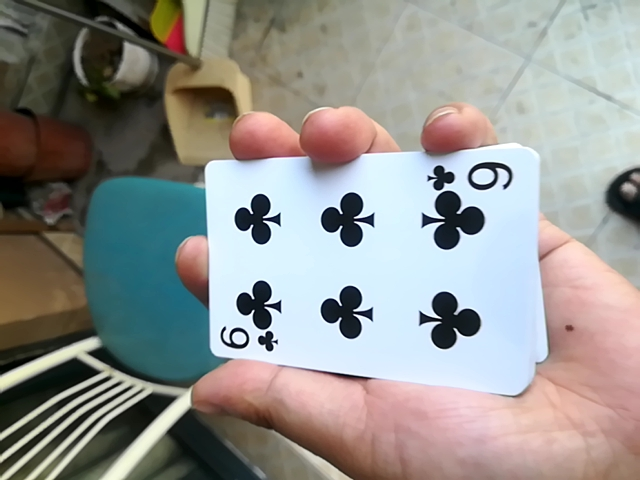mh 6: (196, 139, 522, 396)
